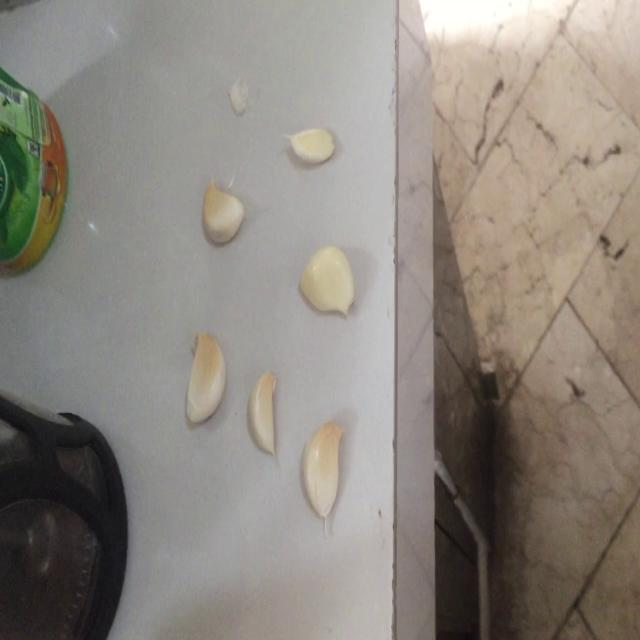garlic: (299, 415, 346, 524), (183, 328, 229, 430), (298, 238, 355, 318), (199, 176, 244, 248), (247, 362, 280, 458), (286, 120, 338, 170)
